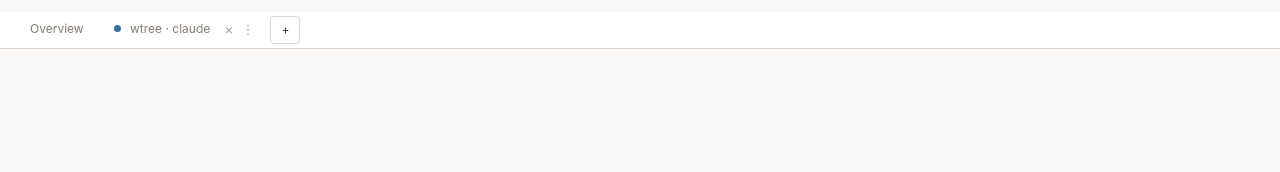
Scenario: AgentSessionTabsComponent open-the-ide (#628, #782) › names a desktop IDE chosen on localhost -- "Open in VS Code" / "Open in IntelliJ IDEA" (#782)
Click the button with class "tab-menu-trigger" at (251, 29), box [242,20,260,38]
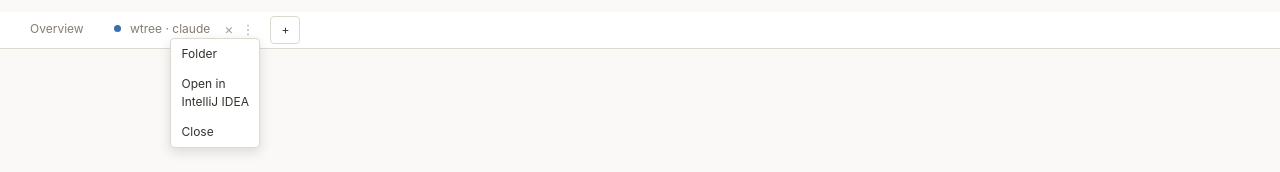
Result: the menu item with class "tab-open-ide" reads "Open in IntelliJ IDEA" at [172,68,260,116]
